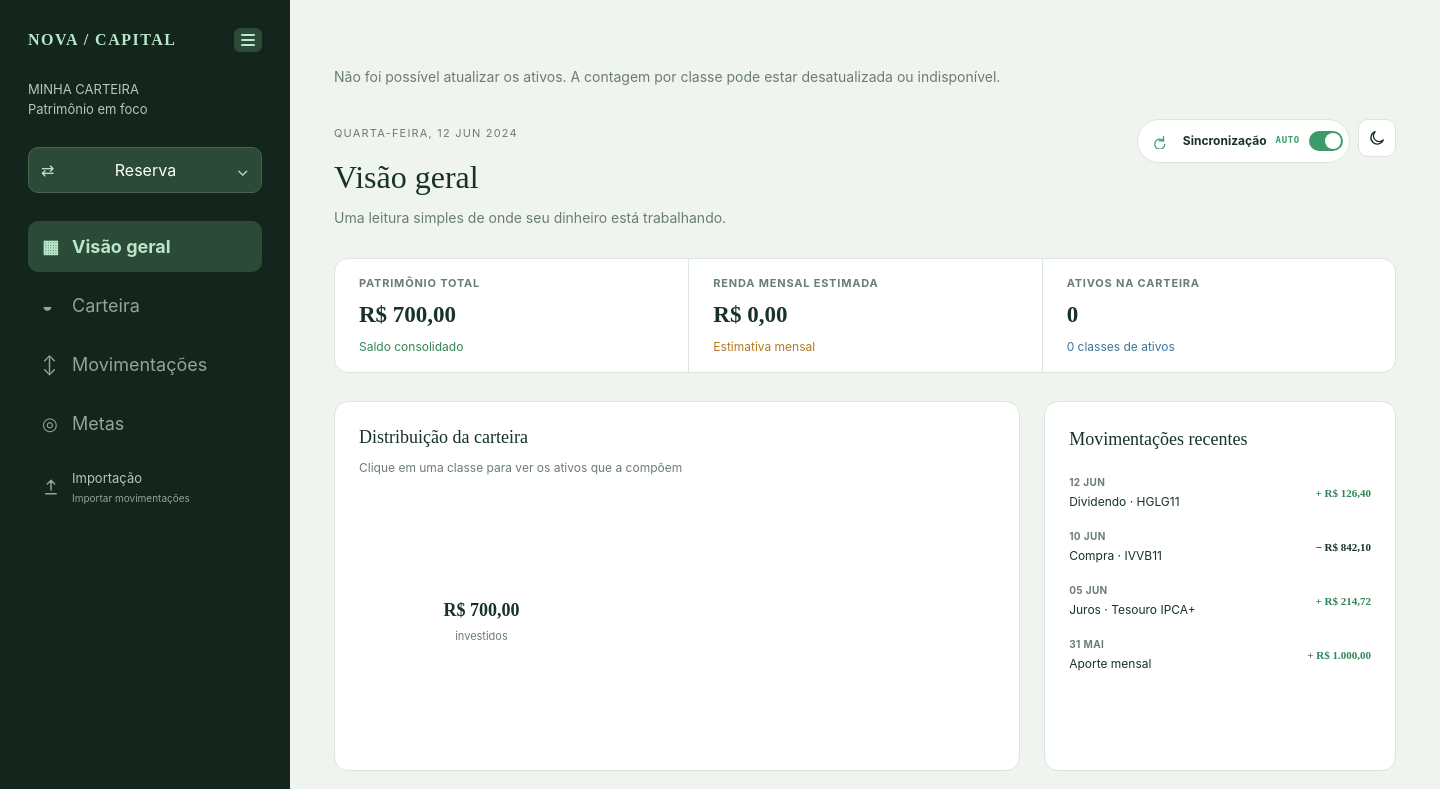
Test case: I4 — seleção e carregamento › falha auxiliar não descarta o resumo e sua recuperação remove o alerta
Expected: the element named "Resumo da carteira" is shown, top-left (334, 258), bottom-right (1396, 373)
Expected: the message shows "contagem por classe", top-left (334, 68), bottom-right (1000, 85)
Click the button named "Sincronizar dados da carteira" at (1159, 141), box top-left (1144, 126), bottom-right (1174, 156)
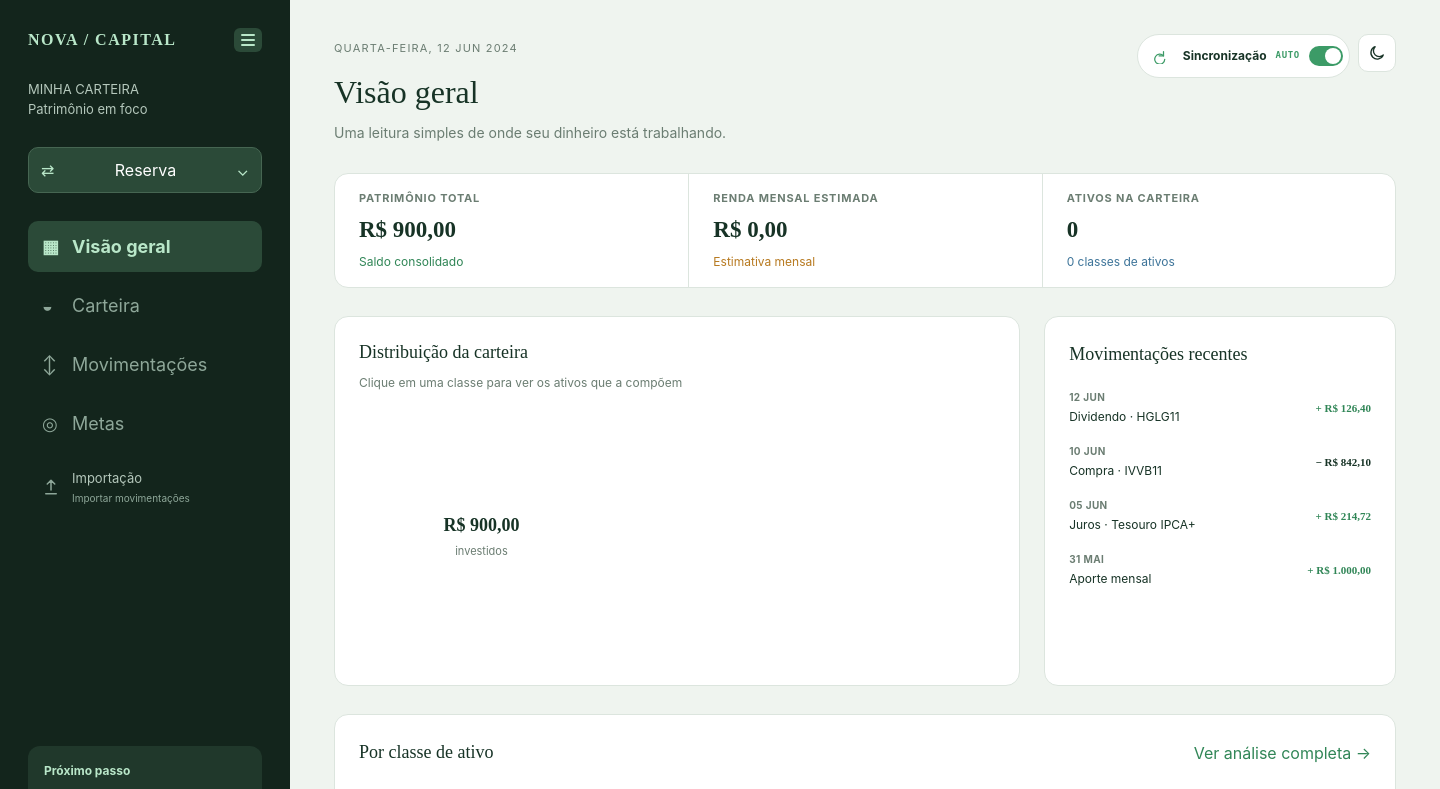
Expected: the text "R$ 900,00" below "Patrimônio total" is shown, top-left (359, 216), bottom-right (456, 242)
Expected: the message is gone
